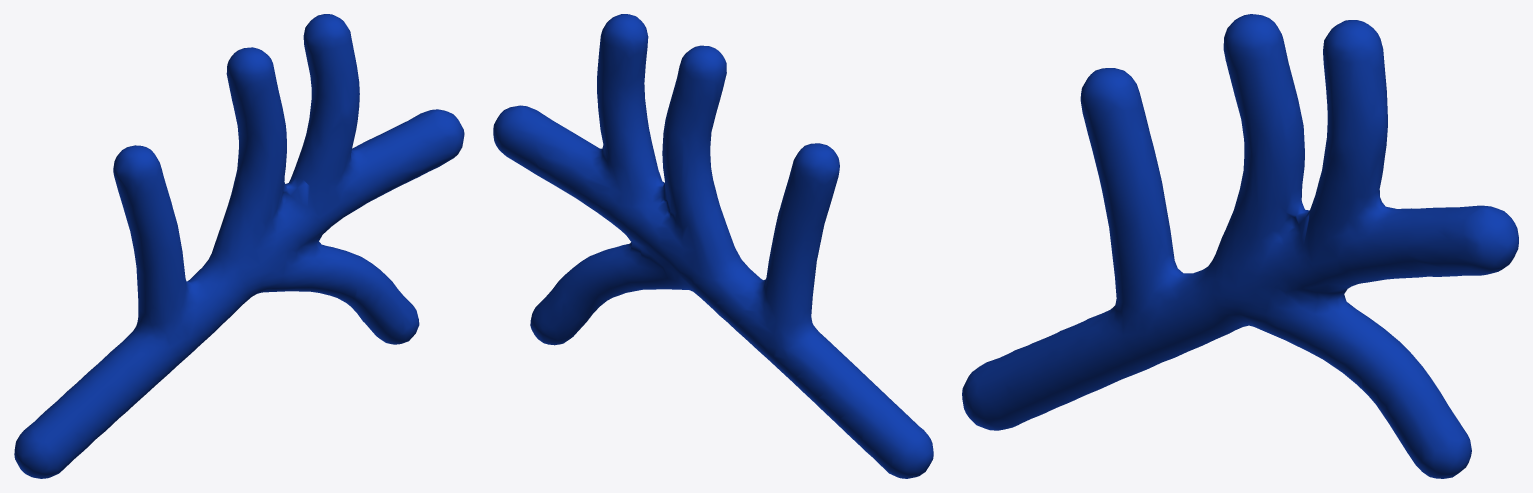
Rendered from cobalt-branch.glb.
The picture shows the model from 3 angles, left to right: view 1: azimuth 30°, elevation 25°; view 2: azimuth 150°, elevation 25°; view 3: azimuth 330°, elevation 25°; orthographic projection. The views are drawn at different scales.
Visible parts, largest first — view 1: cobalt-branch; view 2: cobalt-branch; view 3: cobalt-branch.
Boxes of the visible parts, box(x1,y1,x2,y2) form: cobalt-branch: box(14, 14, 464, 478); cobalt-branch: box(493, 14, 933, 478); cobalt-branch: box(962, 14, 1518, 478).
Bounding box in the file's own units: 2 × 1.7 × 0.2435.
